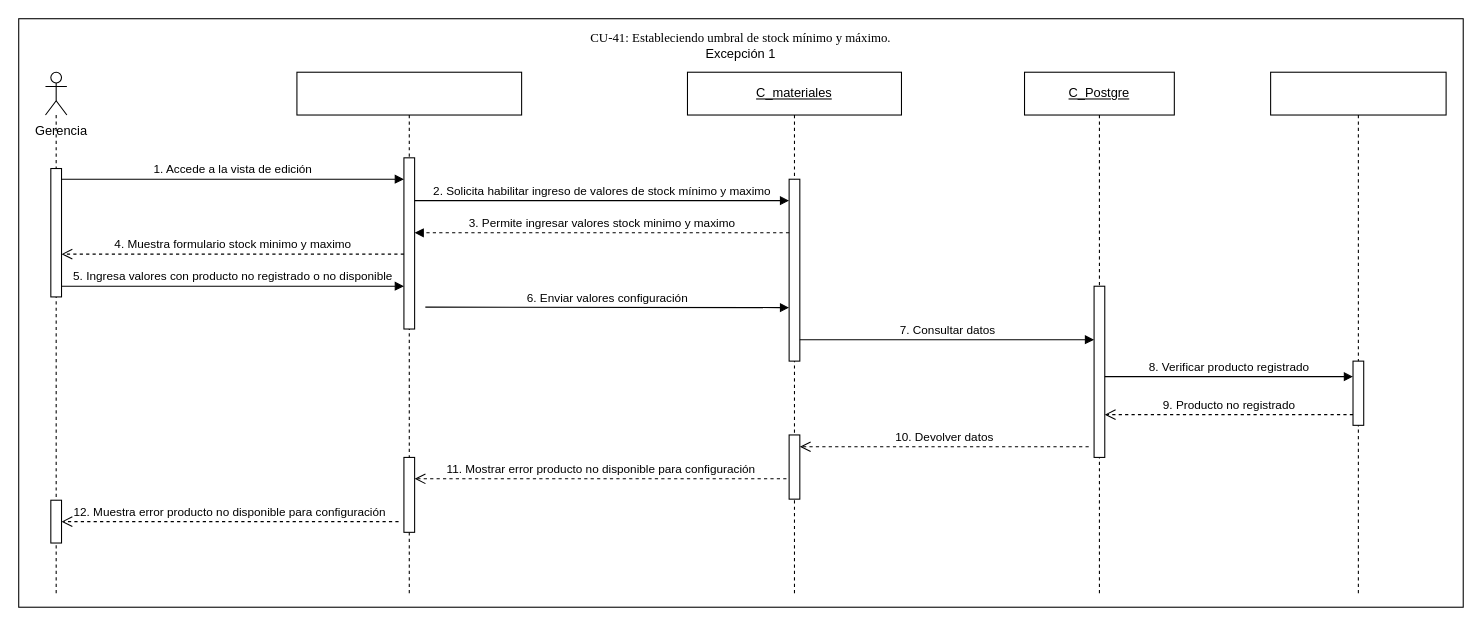
Image size: 1482x626. Some labels were removed from this diagram. Here are the shapes that lost their labels. From the top down, the centre of each, then its label:
[409,334]: V_Editar Producto
[1358,334]: Material
